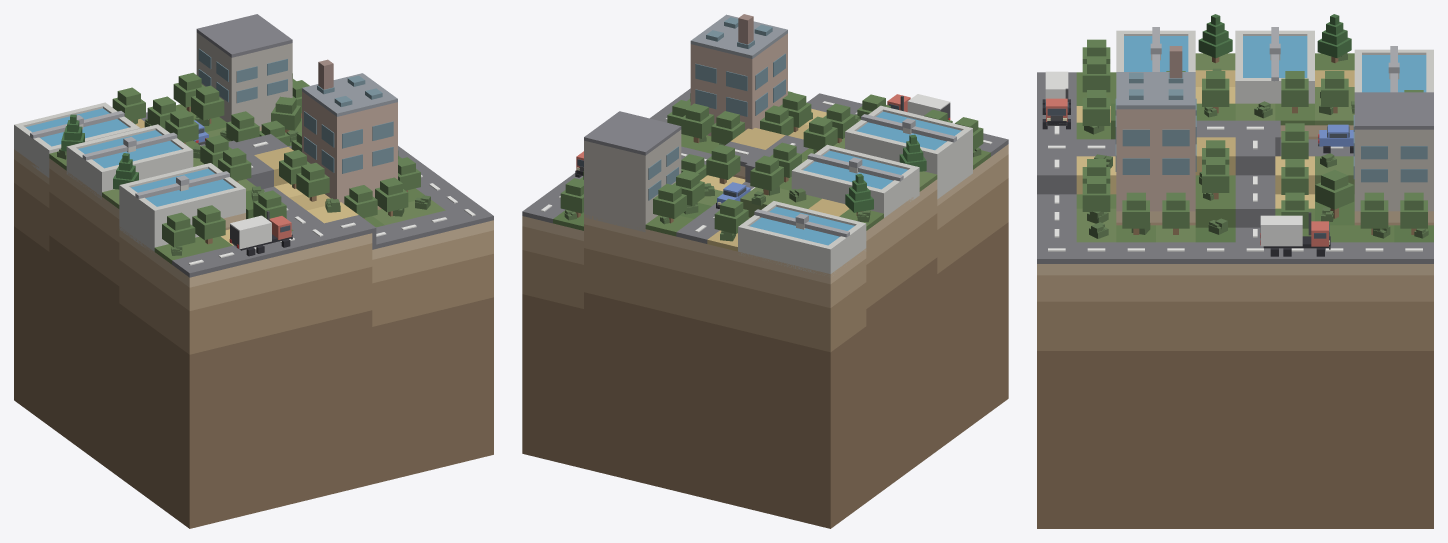
The model's file is block_12_engineered_40.glb.
3 renders of one model, left to right at view 1: azimuth 30°, elevation 25°; view 2: azimuth 150°, elevation 25°; view 3: azimuth 270°, elevation 25°, orthographic. The views are drawn at different scales.
Visible parts, largest first — view 1: Patch_LowerLeft_b11_ES, Factories_LowerLeft_b11_ES, Tanks_LowerLeft_ES, Roads_LowerLeft_b11_ES, Ground_LowerLeft_b11_ES, Asset_Truck.006_ES, Asset_Tree_Round.103_ES, Asset_Tree_Round.107_ES, Asset_Tree_Round.075_ES, Asset_Tree_Round.110_ES, Asset_Tree_Round.106_ES, Asset_Tree_Round.100_ES (+14 smaller); view 2: Patch_LowerLeft_b11_ES, Tanks_LowerLeft_ES, Factories_LowerLeft_b11_ES, Ground_LowerLeft_b11_ES, Roads_LowerLeft_b11_ES, Asset_Truck.006_ES, Asset_Tree_Round.081_ES, Asset_Tree_Round.078_ES, Asset_Tree_Round.092_ES, Asset_Tree_Round.073_ES, Asset_Tree_Round.090_ES, Asset_Tree_Round.072_ES (+9 smaller); view 3: Patch_LowerLeft_b11_ES, Factories_LowerLeft_b11_ES, Roads_LowerLeft_b11_ES, Ground_LowerLeft_b11_ES, Tanks_LowerLeft_ES, Asset_Truck.005_ES, RoadLines_LowerLeft_b11_ES, Asset_Truck.006_ES, Asset_Tree_Round.059_ES, Asset_Tree_Pine.001_ES, Asset_Tree_Pine.003_ES, Asset_Tree_Round.104_ES (+17 smaller).
Part boxes in pixels (x1=…): Patch_LowerLeft_b11_ES: x1=14, y1=126, x2=493, y2=528; Factories_LowerLeft_b11_ES: x1=196, y1=14, x2=397, y2=203; Tanks_LowerLeft_ES: x1=14, y1=102, x2=245, y2=252; Roads_LowerLeft_b11_ES: x1=141, y1=112, x2=493, y2=277; Ground_LowerLeft_b11_ES: x1=49, y1=104, x2=445, y2=264; Asset_Truck.006_ES: x1=229, y1=211, x2=292, y2=256; Asset_Tree_Round.103_ES: x1=296, y1=162, x2=329, y2=201; Asset_Tree_Round.107_ES: x1=192, y1=205, x2=225, y2=244; Asset_Tree_Round.075_ES: x1=191, y1=85, x2=224, y2=123; Asset_Tree_Round.110_ES: x1=375, y1=177, x2=408, y2=216; Asset_Tree_Round.106_ES: x1=162, y1=212, x2=195, y2=247; Asset_Tree_Round.100_ES: x1=218, y1=148, x2=251, y2=182; Patch_LowerLeft_b11_ES: x1=522, y1=144, x2=1008, y2=528; Tanks_LowerLeft_ES: x1=738, y1=105, x2=972, y2=275; Factories_LowerLeft_b11_ES: x1=584, y1=14, x2=787, y2=232; Ground_LowerLeft_b11_ES: x1=553, y1=108, x2=990, y2=251; Roads_LowerLeft_b11_ES: x1=522, y1=88, x2=1008, y2=243; Asset_Truck.006_ES: x1=887, y1=94, x2=950, y2=120; Asset_Tree_Round.081_ES: x1=706, y1=144, x2=740, y2=184; Asset_Tree_Round.078_ES: x1=750, y1=155, x2=783, y2=195; Asset_Tree_Round.092_ES: x1=680, y1=103, x2=714, y2=142; Asset_Tree_Round.073_ES: x1=653, y1=183, x2=686, y2=223; Asset_Tree_Round.090_ES: x1=803, y1=116, x2=837, y2=151; Asset_Tree_Round.072_ES: x1=714, y1=198, x2=748, y2=233; Patch_LowerLeft_b11_ES: x1=1037, y1=125, x2=1433, y2=528; Factories_LowerLeft_b11_ES: x1=1115, y1=46, x2=1433, y2=211; Roads_LowerLeft_b11_ES: x1=1037, y1=72, x2=1433, y2=263; Ground_LowerLeft_b11_ES: x1=1076, y1=53, x2=1433, y2=242; Tanks_LowerLeft_ES: x1=1116, y1=27, x2=1433, y2=103; Asset_Truck.005_ES: x1=1260, y1=212, x2=1330, y2=256; RoadLines_LowerLeft_b11_ES: x1=1048, y1=126, x2=1422, y2=251; Asset_Truck.006_ES: x1=1042, y1=71, x2=1070, y2=129; Asset_Tree_Round.059_ES: x1=1315, y1=169, x2=1354, y2=218; Asset_Tree_Pine.001_ES: x1=1198, y1=14, x2=1232, y2=63; Asset_Tree_Pine.003_ES: x1=1317, y1=14, x2=1351, y2=62; Asset_Tree_Round.104_ES: x1=1122, y1=192, x2=1149, y2=234.
Size of the model in its own units: 9.5 by 11.13 by 9.5.
